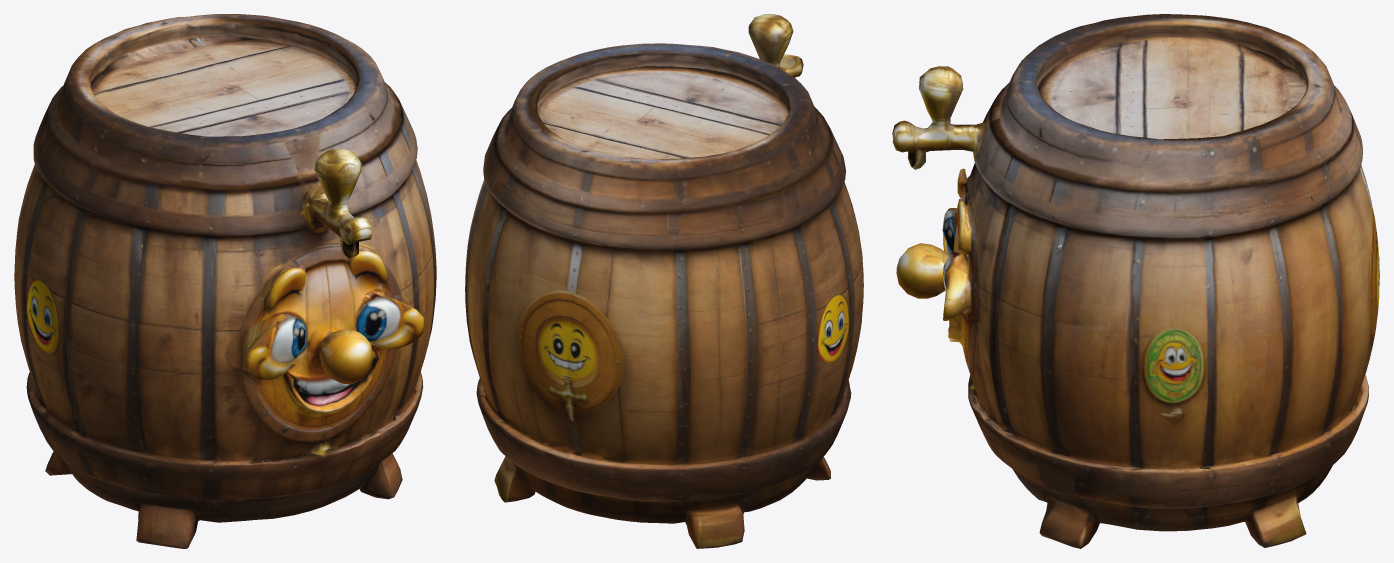
File: _Brasil_Oktoberfest__0503220703_texture.glb
3 renders of one model, left to right at view 1: azimuth 30°, elevation 25°; view 2: azimuth 150°, elevation 25°; view 3: azimuth 270°, elevation 25°, orthographic. The views are drawn at different scales.
Size of the model in its own units: 1.76 by 1.88 by 2.
Materials: 1 (1 with a texture image).
